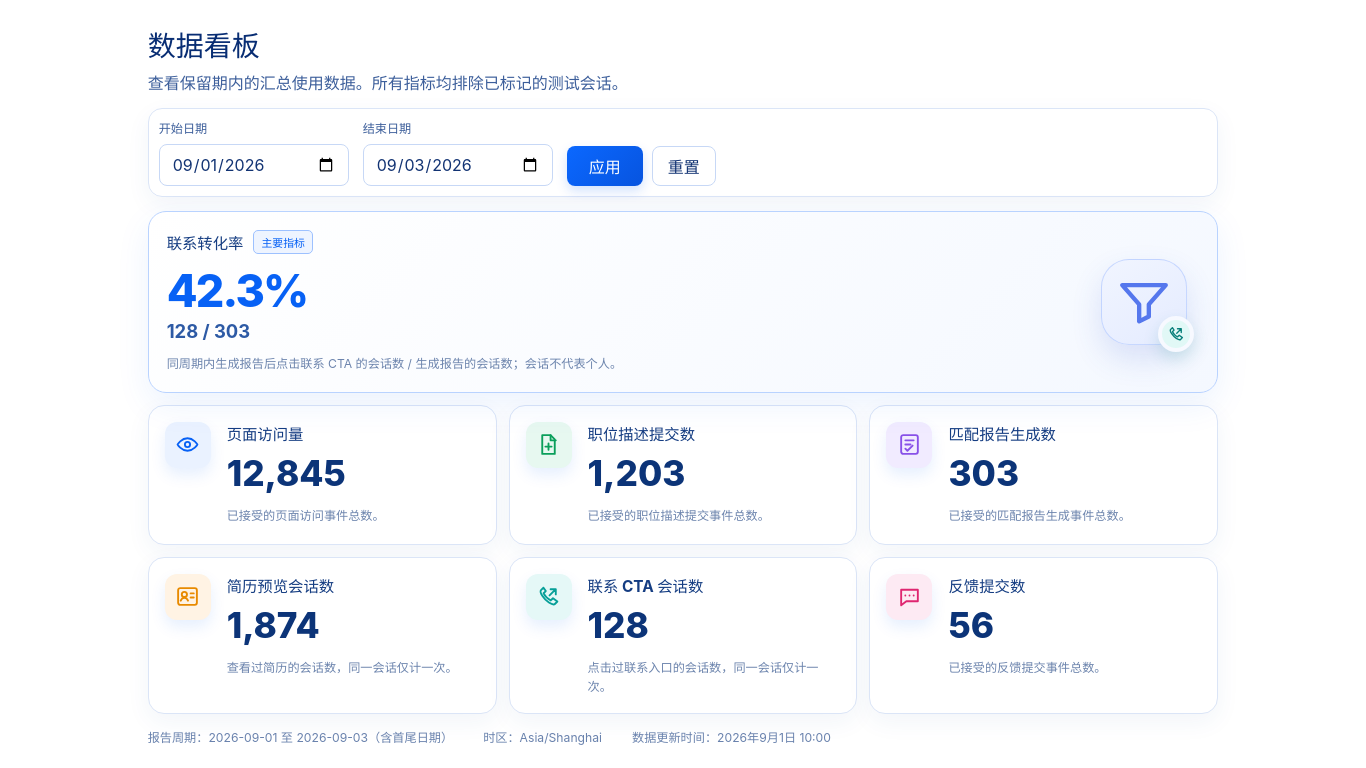
Scenario: data dashboard panel › applies one inclusive date pair and updates every metric together
Check: the text "42.3%" is shown, box x1=167 y1=264 x2=307 y2=318
Step 1. Type "2026-08-01" into the date field labelled "开始日期" → (254, 165), box x1=159 y1=144 x2=349 y2=186
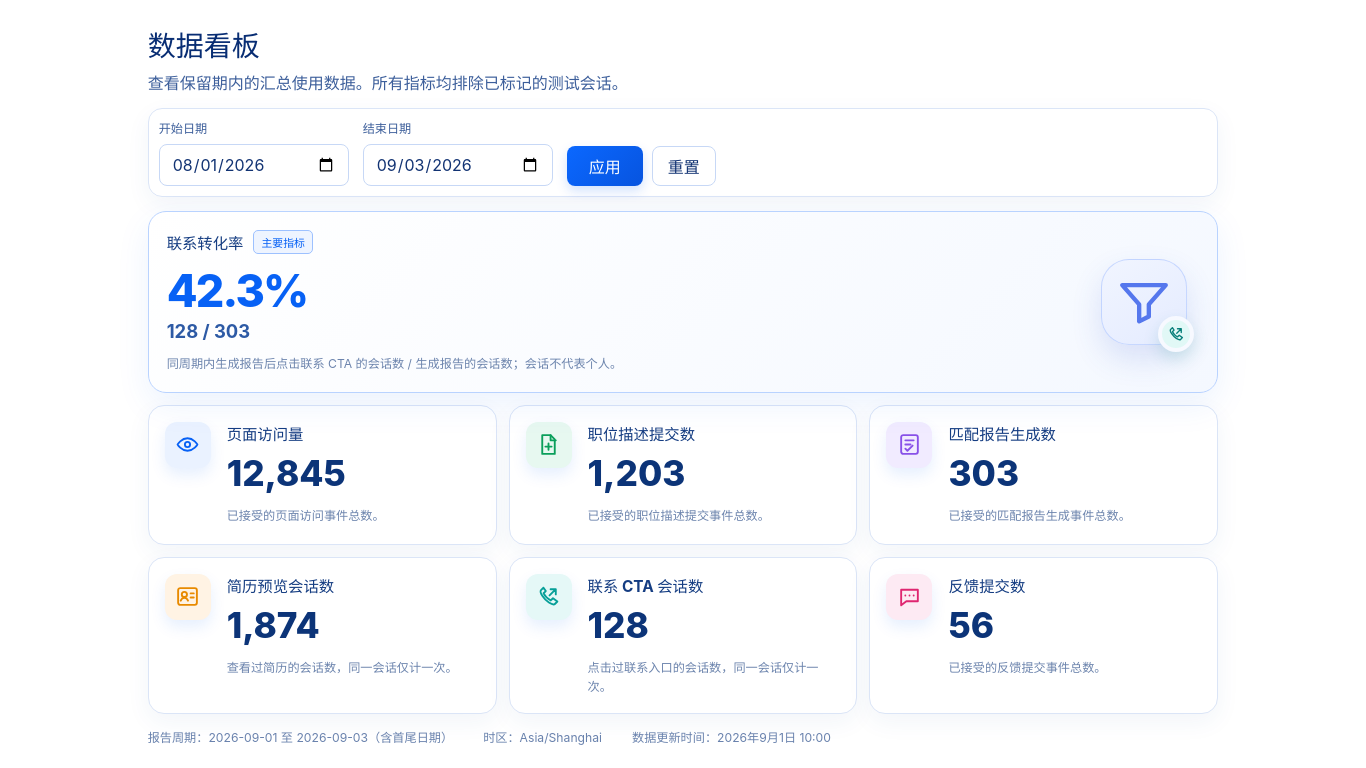
Step 2. Type "2026-08-31" into the date field labelled "结束日期" → (458, 165), box x1=363 y1=144 x2=553 y2=186
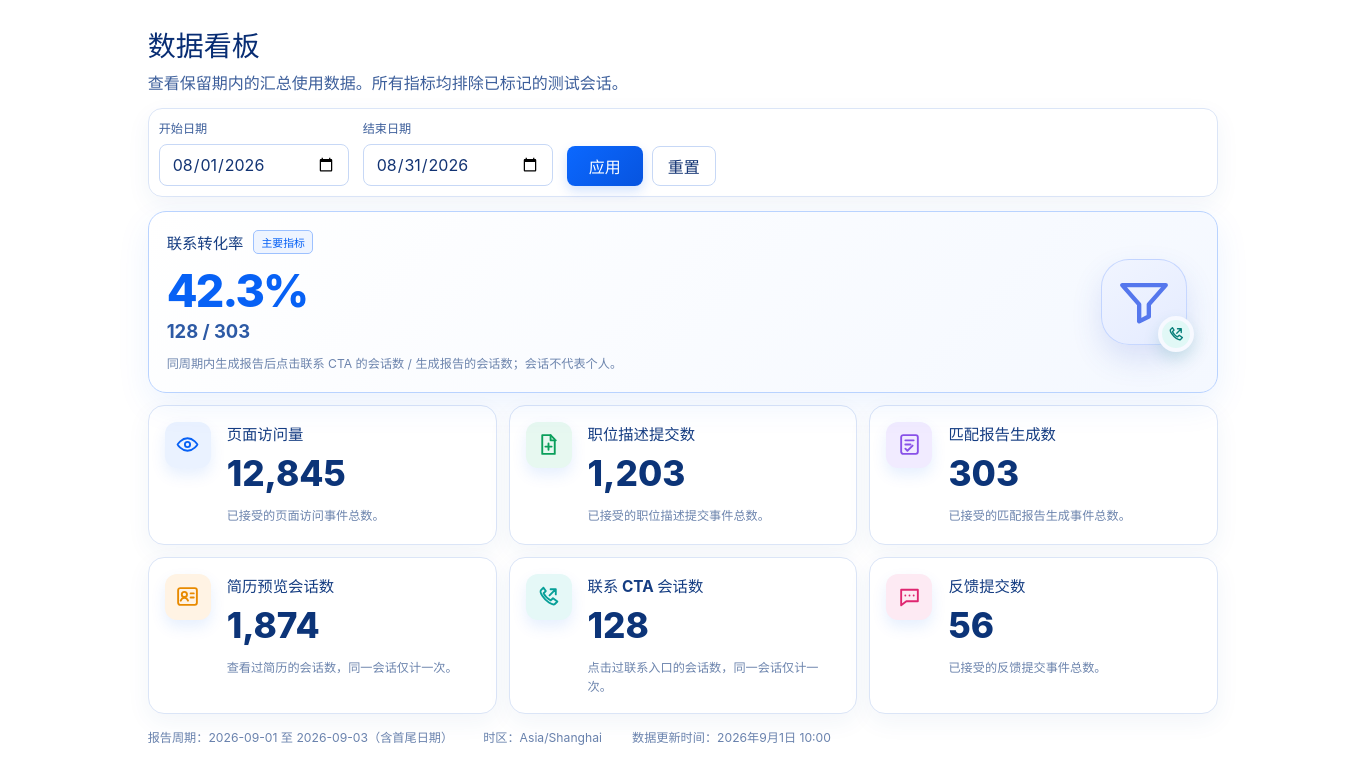
Step 3. Click the button "应用" → (605, 166), box x1=567 y1=146 x2=643 y2=186
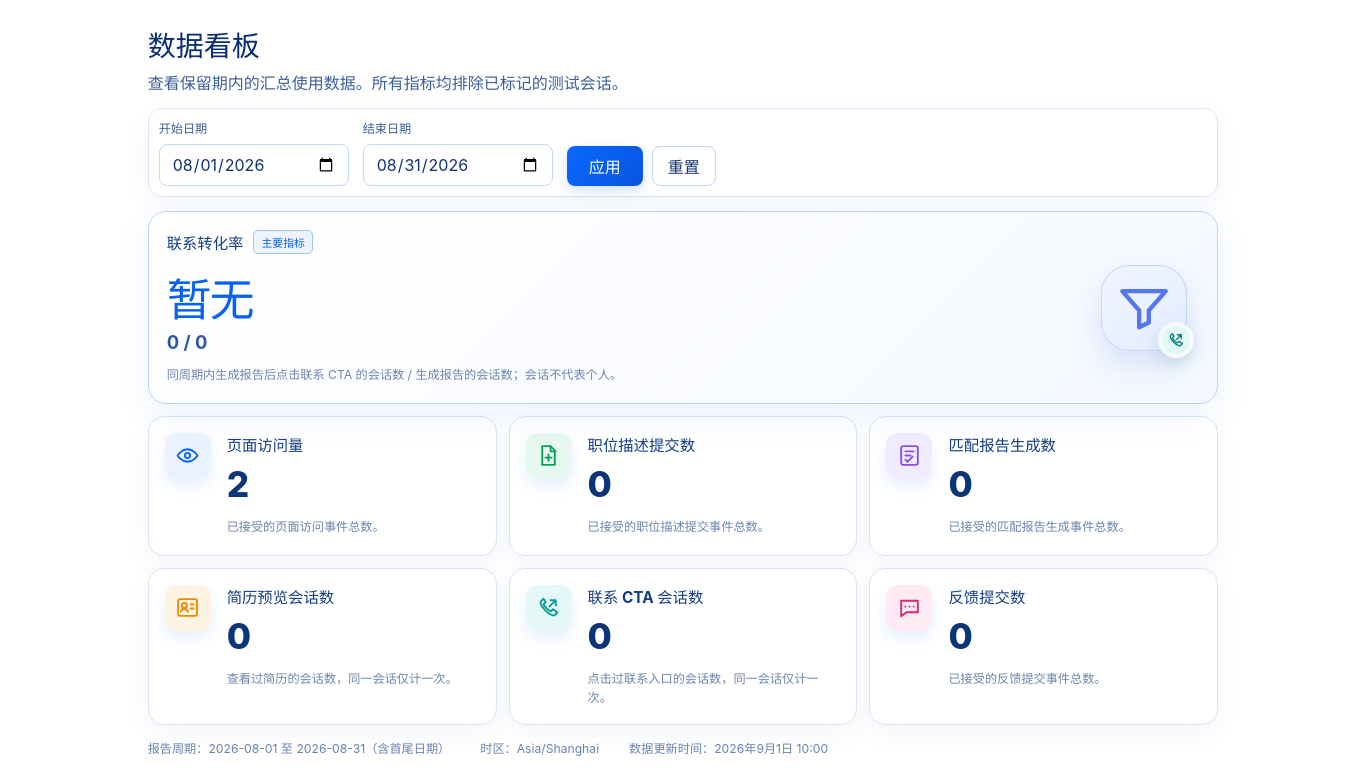
Check: the text "暂无" is shown, box x1=167 y1=273 x2=253 y2=327
Check: the text "2026-08-01 至 2026-08-31（含首尾日期）" is shown, box x1=208 y1=741 x2=450 y2=756
